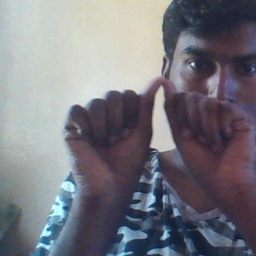A: (69, 76, 256, 178)
